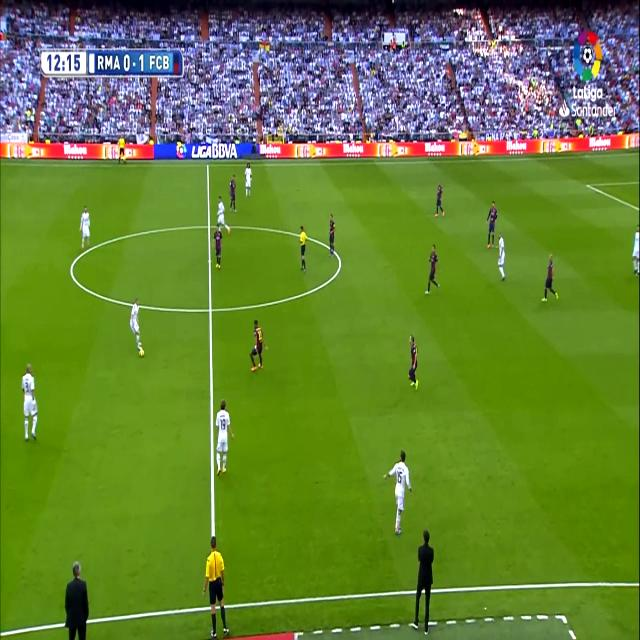bigarea_top_inner: (584, 179, 590, 191)
halfcircle_bottom: (205, 296, 216, 321)
halfcircle_top: (204, 216, 214, 236)
midline_top_intersection: (204, 158, 212, 172)
